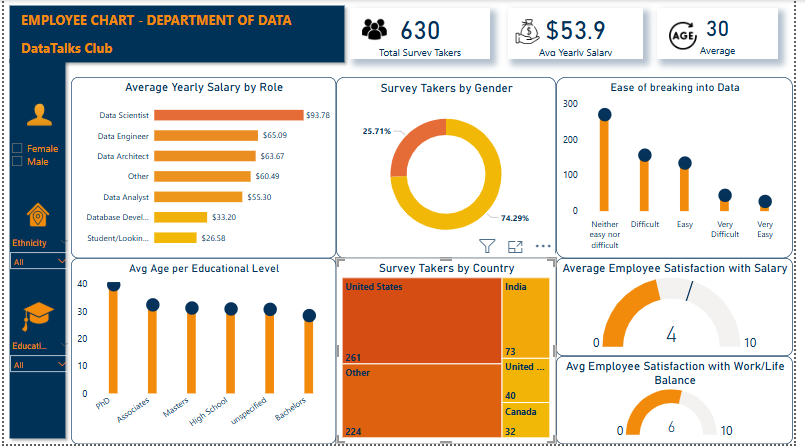

The page's visual inventory and layout, read from the dashboard file:
{"tool":"powerbi","page":{"name":"Page 1","canvas":[1280,720],"ordinal":0},"visuals":[{"type":"shape","box":[0,0,561.1,110.3],"z":0},{"type":"barChart","title":"Average Yearly Salary by Role","fields":{"Y":["Avg(Data Professional Survey.Average Yearly Salary in USD)"],"Category":["Data Professional Survey.Q1 - Which Title Best Fits your Current Role?.1"]},"box":[108.6,124.9,429.7,293.5],"z":1000},{"type":"lineClusteredColumnComboChart","title":"Ease of breaking into  Data","fields":{"Y":["CountNonNull(Data Professional Survey.Unique ID)"],"Category":["Data Professional Survey.Q7 - How difficult was it for you to break into Data?"],"Y2":["CountNonNull(Data Professional Survey.Q7 - How difficult was it for you to break into Data?)"]},"box":[895.1,124.9,384.3,293.5],"z":2000},{"type":"donutChart","title":"Survey Takers by Gender","fields":{"Category":["Data Professional Survey.Q9 - Male/Female?"],"Y":["CountNonNull(Data Professional Survey.Unique ID)"]},"box":[538.4,124.9,356.8,293.5],"z":3000},{"type":"gauge","title":"Average Employee Satisfaction with Salary","fields":{"Y":["Avg(Data Professional Survey.Q6 - How Happy are you in your Current Position with the following? (Salary))"],"MinValue":["Min(Data Professional Survey.Q6 - How Happy are you in your Current Position with the following? (Salary))"],"MaxValue":["Max(Data Professional Survey.Q6 - How Happy are you in your Current Position with the following? (Salary))"]},"box":[895.1,418.4,384.3,158.9],"z":4000},{"type":"gauge","title":"Avg Employee Satisfaction with Work/Life Balance","fields":{"Y":["Avg(Data Professional Survey.Q6 - How Happy are you in your Current Position with the following? (Work/Life Balance))"],"MinValue":["Min(Data Professional Survey.Q6 - How Happy are you in your Current Position with the following? (Work/Life Balance))"],"MaxValue":["Max(Data Professional Survey.Q6 - How Happy are you in your Current Position with the following? (Work/Life Balance))"]},"box":[895.1,577.3,384.3,142.7],"z":5000},{"type":"treemap","title":"Survey Takers by Country","fields":{"Values":["CountNonNull(Data Professional Survey.Unique ID)"],"Group":["Data Professional Survey.Q11 - Which Country do you live in?.1"]},"box":[538.4,418.4,356.8,301.6],"z":6000},{"type":"lineStackedColumnComboChart","title":"Avg Age per Educational Level","fields":{"Category":["Data Professional Survey.Q12 - Highest Level of Education"],"Y2":["Avg(Data Professional Survey.Q10 - Current Age)"],"Y":["Avg(Data Professional Survey.Q10 - Current Age)"]},"box":[108.6,418.4,429.7,301.6],"z":7000},{"type":"card","title":"Total Survey Takers","fields":{"Values":["Count(Data Professional Survey.Unique ID)"]},"box":[561.1,13,227,82.7],"z":8000},{"type":"shape","box":[0,87.6,108.6,632.4],"z":9000},{"type":"card","title":"Total Survey Takers","fields":{"Values":["Avg(Data Professional Survey.Average Yearly Salary in USD)"]},"box":[817.3,13,218.9,82.7],"z":10000},{"type":"card","title":"Total Survey Takers","fields":{"Values":["Avg(Data Professional Survey.Q10 - Current Age)"]},"box":[1058.9,13,196.2,82.7],"z":11000},{"type":"image","box":[1073.5,19.5,55.1,76.2],"z":12000},{"type":"image","box":[575.7,22.7,50.3,50.3],"z":13000},{"type":"image","box":[817.3,25.9,63.2,50.3],"z":14000},{"type":"textbox","box":[22.7,13,489.7,82.7],"z":15000},{"type":"slicer","fields":{"Values":["Data Professional Survey.Q9 - Male/Female?"]},"box":[0,223.8,100.5,63.2],"z":16000},{"type":"slicer","fields":{"Values":["Data Professional Survey.Q13 - Ethnicity.1"]},"box":[0,381.1,116.8,73],"z":17000},{"type":"image","box":[32.4,158.9,50.3,53.5],"z":18000},{"type":"image","box":[16.2,480,77.8,68.1],"z":19000},{"type":"slicer","fields":{"Values":["Data Professional Survey.Q12 - Highest Level of Education"]},"box":[0,548.1,116.8,134.6],"z":20000},{"type":"image","box":[16.2,314.6,77.8,66.5],"z":20001}]}

Visuals, with their boxes in screenshot pixels (x1, y1, x2, y2), scaled from the page's 1280x720 canvas onto the 805x446 screenshot:
shape: 0, 0, 353, 68
"Average Yearly Salary by Role" barChart: 68, 77, 339, 259
"Ease of breaking into  Data" lineClusteredColumnComboChart: 563, 77, 804, 259
"Survey Takers by Gender" donutChart: 339, 77, 563, 259
"Average Employee Satisfaction with Salary" gauge: 563, 259, 804, 358
"Avg Employee Satisfaction with Work/Life Balance" gauge: 563, 358, 804, 445
"Survey Takers by Country" treemap: 339, 259, 563, 445
"Avg Age per Educational Level" lineStackedColumnComboChart: 68, 259, 339, 445
"Total Survey Takers" card: 353, 8, 496, 59
shape: 0, 54, 68, 445
"Total Survey Takers" card: 514, 8, 652, 59
"Total Survey Takers" card: 666, 8, 789, 59
image: 675, 12, 710, 59
image: 362, 14, 394, 45
image: 514, 16, 554, 47
textbox: 14, 8, 322, 59
slicer - Data Professional Survey.Q9 - Male/Female?: 0, 139, 63, 178
slicer - Data Professional Survey.Q13 - Ethnicity.1: 0, 236, 73, 281
image: 20, 98, 52, 132
image: 10, 297, 59, 340
slicer - Data Professional Survey.Q12 - Highest Level of Education: 0, 340, 73, 423
image: 10, 195, 59, 236
